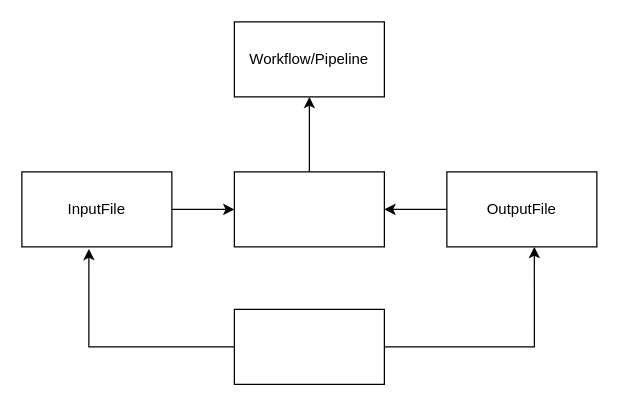
Image size: 619x406. Some labels were removed from this diagram. The shapes that lost their labels are listed below. From the top down, each one's centre as x and y in pixels, then its label:
At (308,209): "Modules/Software".
At (308,346): "Tools/Script".
